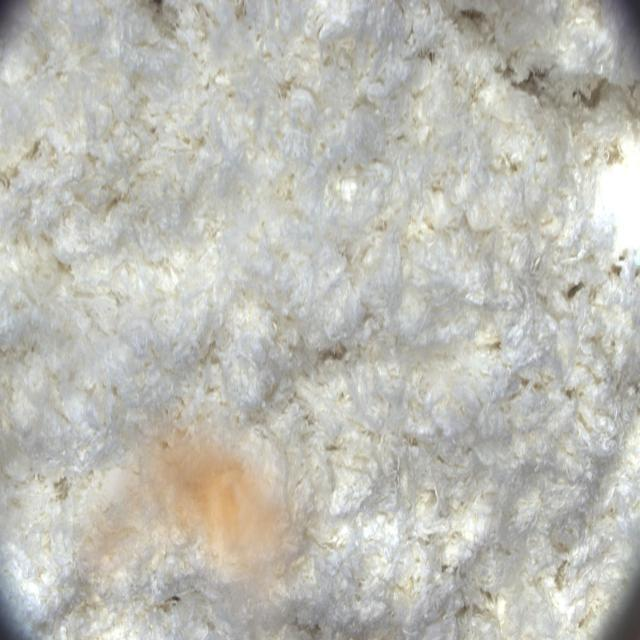dust: (73, 405, 333, 640)
